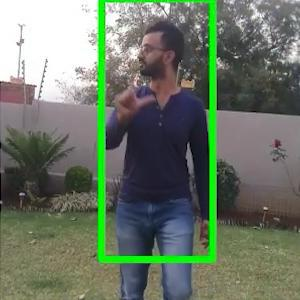land_hand: (110, 66, 157, 122)
